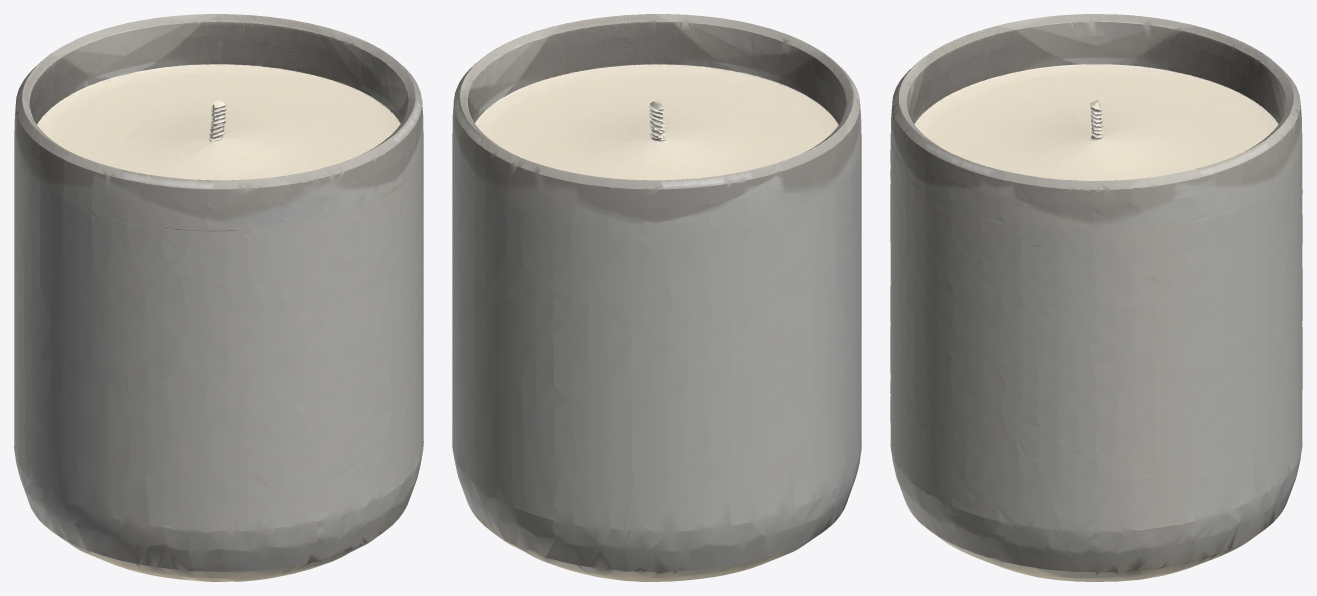
3 views of the same model, side by side, from view 1: azimuth 30°, elevation 25°; view 2: azimuth 150°, elevation 25°; view 3: azimuth 270°, elevation 25° (orthographic).
Bounding box in the file's own units: 1.69 × 1.9 × 1.69.
1 material, 1 textured.
